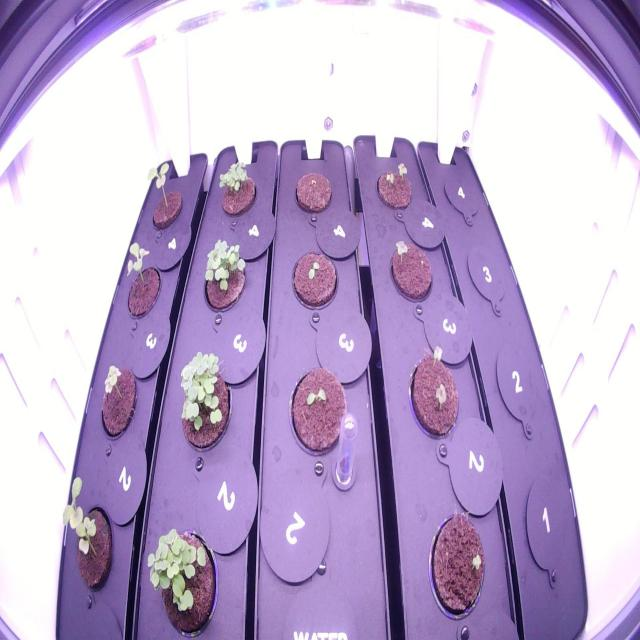empty_pod: (522, 472, 575, 579), (494, 343, 544, 426), (464, 238, 508, 306), (439, 162, 484, 224)
germination: (142, 518, 220, 636), (420, 506, 492, 626), (172, 347, 235, 465), (282, 360, 354, 463), (399, 340, 466, 448), (199, 235, 254, 318), (117, 237, 165, 326), (286, 242, 340, 316), (383, 234, 436, 309), (98, 357, 140, 450), (141, 157, 185, 238), (210, 154, 261, 223), (371, 156, 415, 216)
pod: (288, 166, 336, 222)
